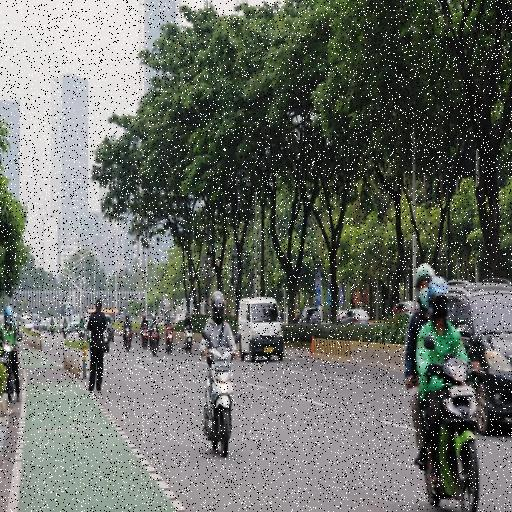Helmet: (412, 272, 454, 324), (208, 292, 229, 328)
Motor: (408, 364, 483, 508), (204, 360, 232, 450)
